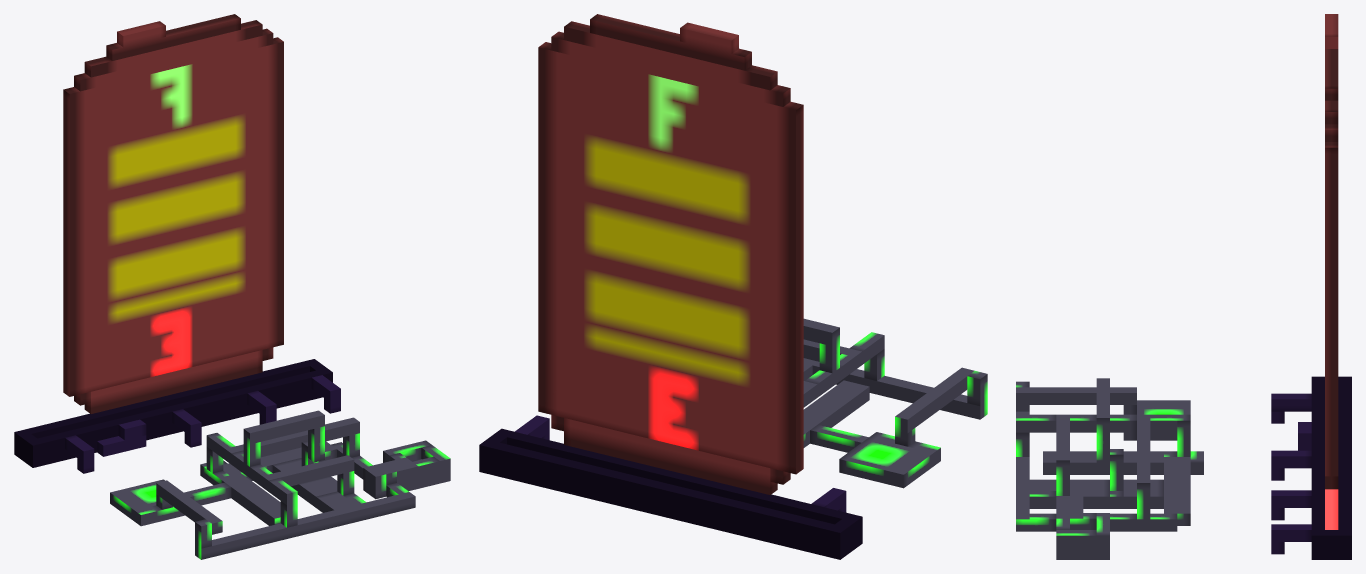
Rendered from NEON_I_RURKI.dae.
3 renders of one model, left to right at view 1: azimuth 30°, elevation 25°; view 2: azimuth 150°, elevation 25°; view 3: azimuth 270°, elevation 25°, orthographic. The views are drawn at different scales.
Visible parts, largest first — view 1: Content; view 2: Content; view 3: Content.
Part boxes in pixels (<box>): Content: <box>14,14,450,559</box>; Content: <box>479,14,987,559</box>; Content: <box>1016,14,1351,559</box>.
Bounding box in the file's own units: 28 × 36 × 25.
1 material, 1 textured.
